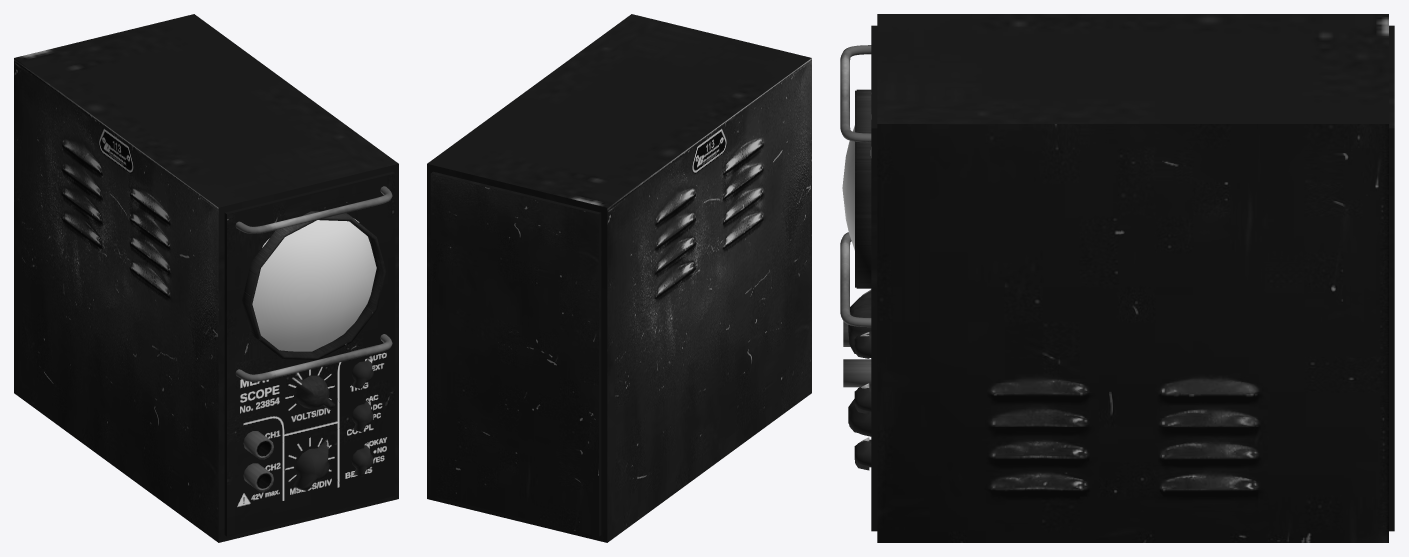
The model's file is scope.fbx.
3 views of the same model, side by side, from view 1: azimuth 30°, elevation 25°; view 2: azimuth 150°, elevation 25°; view 3: azimuth 270°, elevation 25° (orthographic). The views are drawn at different scales.
Visible parts, largest first — view 1: Scope, ScopeScreen; view 2: Scope; view 3: Scope, ScopeScreen.
Part boxes in pixels (x1,y1,x2,y2): Scope: [14, 14, 398, 542]; ScopeScreen: [252, 219, 376, 351]; Scope: [427, 14, 811, 542]; Scope: [840, 14, 1394, 542]; ScopeScreen: [842, 93, 871, 250].
Bounding box in the file's own units: 20.8 × 44.34 × 36.97.
